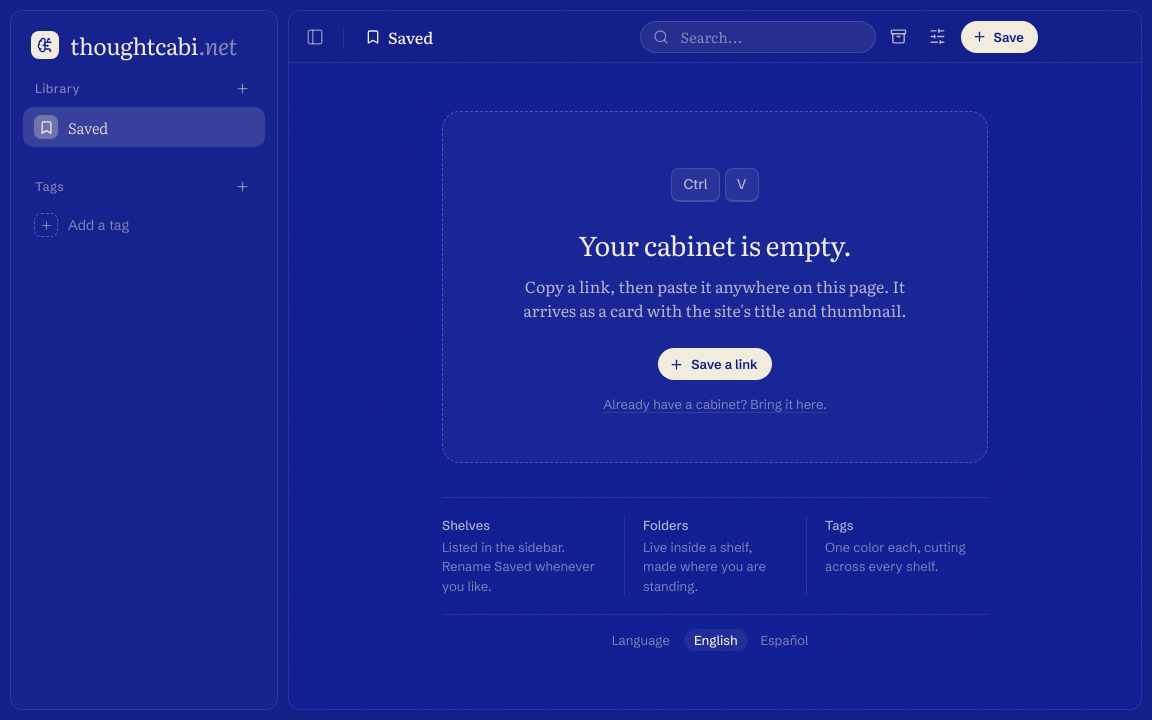
Scenario: App › offers the action instead of reporting the absence when there are no tags
The image size is (1152, 720).
Click the button "Add a tag" at [144, 225], box [23,205,265,245]
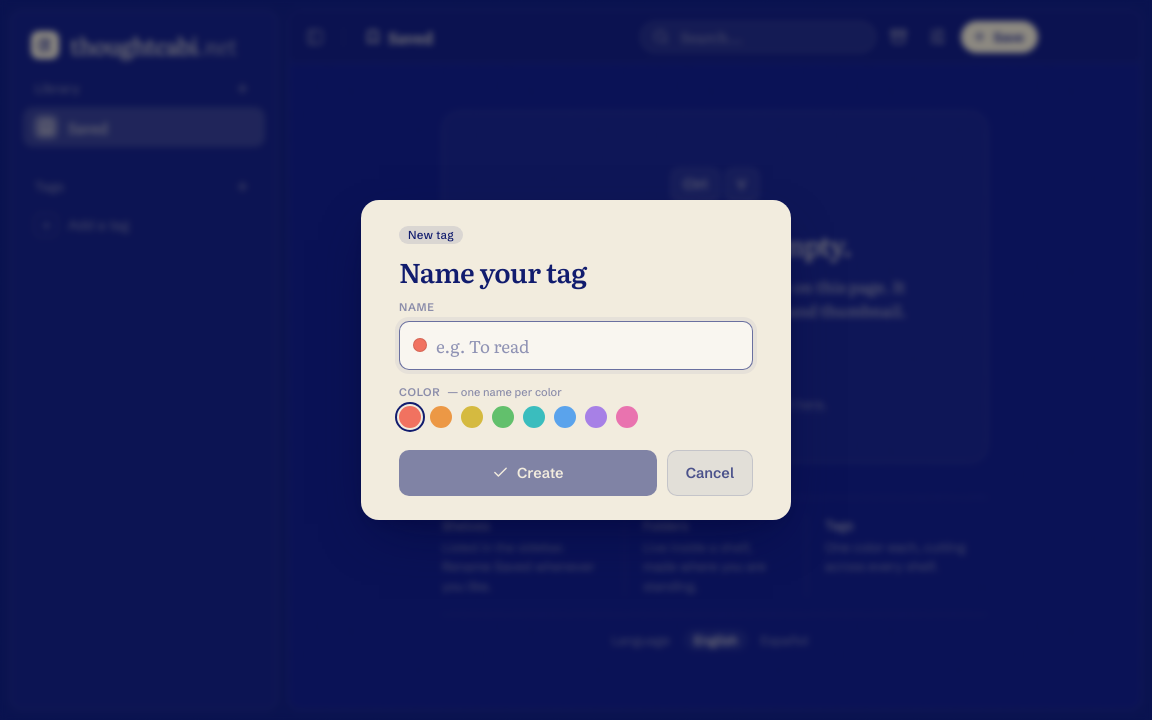
Check: the field with placeholder "e.g. To read" is shown, box [436,322,739,369]
